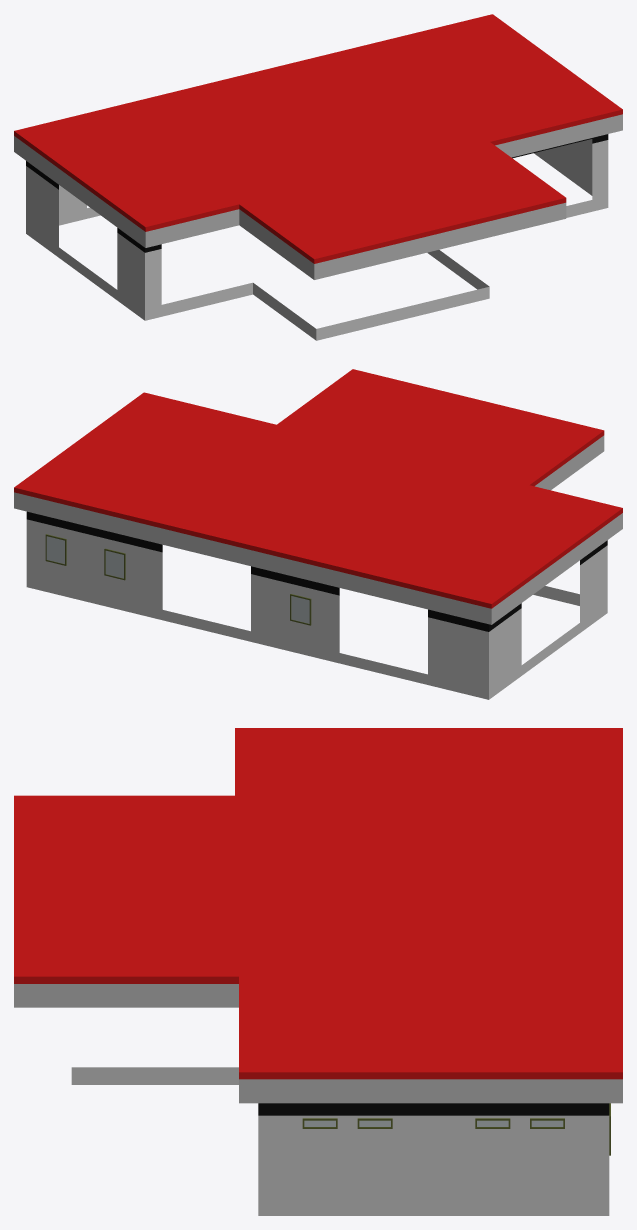
File: station-building.glb
The picture shows the model from 3 angles, top to bottom: view 1: azimuth 30°, elevation 25°; view 2: azimuth 150°, elevation 25°; view 3: azimuth 270°, elevation 25°; orthographic projection. The views are drawn at different scales.
Visible parts, largest first — view 1: Cube_Cube.001 / Roof, Cube_Cube.001 / Wall, Cube_Cube.001 / MetalWhite, Cube_Cube.001 / MetalBlack; view 2: Cube_Cube.001 / Roof, Cube_Cube.001 / Wall, Cube_Cube.001 / MetalWhite, Cube_Cube.001 / MetalBlack, Windows_Plane / Glass, Windows_Plane / Frame; view 3: Cube_Cube.001 / Roof, Cube_Cube.001 / Wall, Cube_Cube.001 / MetalWhite, Cube_Cube.001 / MetalBlack, Windows_Plane / Frame, Windows_Plane / Glass.
Boxes of the visible parts, <box> form: Cube_Cube.001 / Roof: <box>14,14,622,263</box>; Cube_Cube.001 / Wall: <box>26,139,608,340</box>; Cube_Cube.001 / MetalWhite: <box>14,114,622,279</box>; Cube_Cube.001 / MetalBlack: <box>26,134,608,252</box>; Cube_Cube.001 / Roof: <box>14,369,622,608</box>; Cube_Cube.001 / Wall: <box>26,519,607,699</box>; Cube_Cube.001 / MetalWhite: <box>14,435,622,624</box>; Cube_Cube.001 / MetalBlack: <box>26,511,607,631</box>; Windows_Plane / Glass: <box>47,536,309,623</box>; Windows_Plane / Frame: <box>45,534,311,625</box>; Cube_Cube.001 / Roof: <box>14,728,622,1079</box>; Cube_Cube.001 / Wall: <box>71,1067,609,1215</box>; Cube_Cube.001 / MetalWhite: <box>14,984,622,1103</box>; Cube_Cube.001 / MetalBlack: <box>258,1103,609,1115</box>; Windows_Plane / Frame: <box>302,1103,610,1155</box>; Windows_Plane / Glass: <box>304,1121,562,1126</box>.
Bounding box in the file's own units: 37.81 × 7.64 × 28.26.
